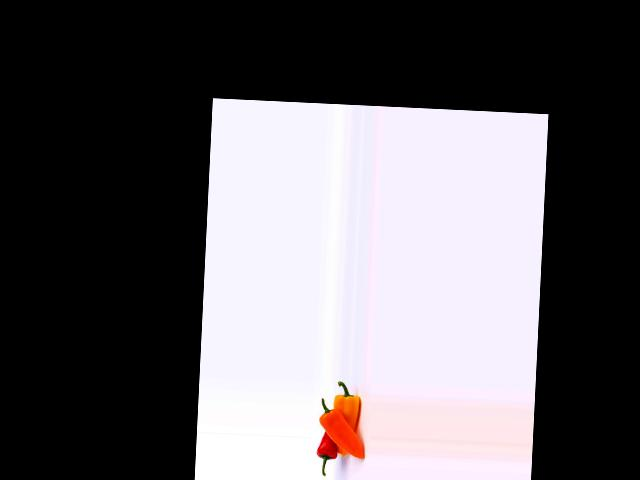bell_pepper: (329, 378, 366, 438)
